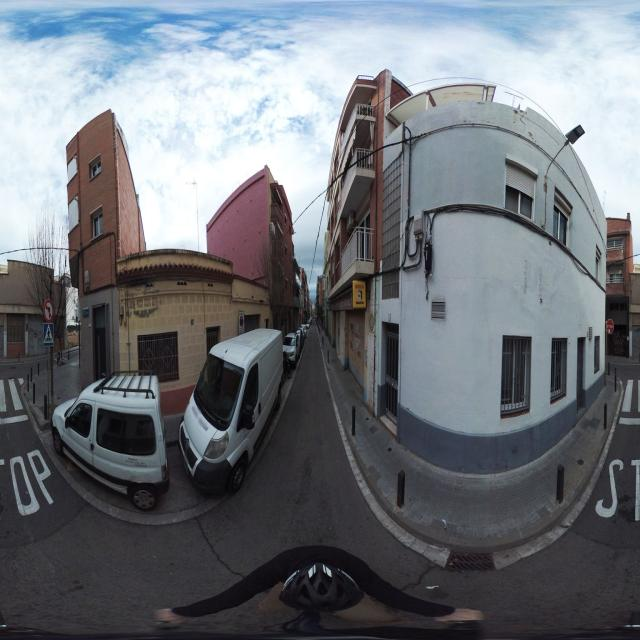forb_stopping: (240, 316, 244, 328)
